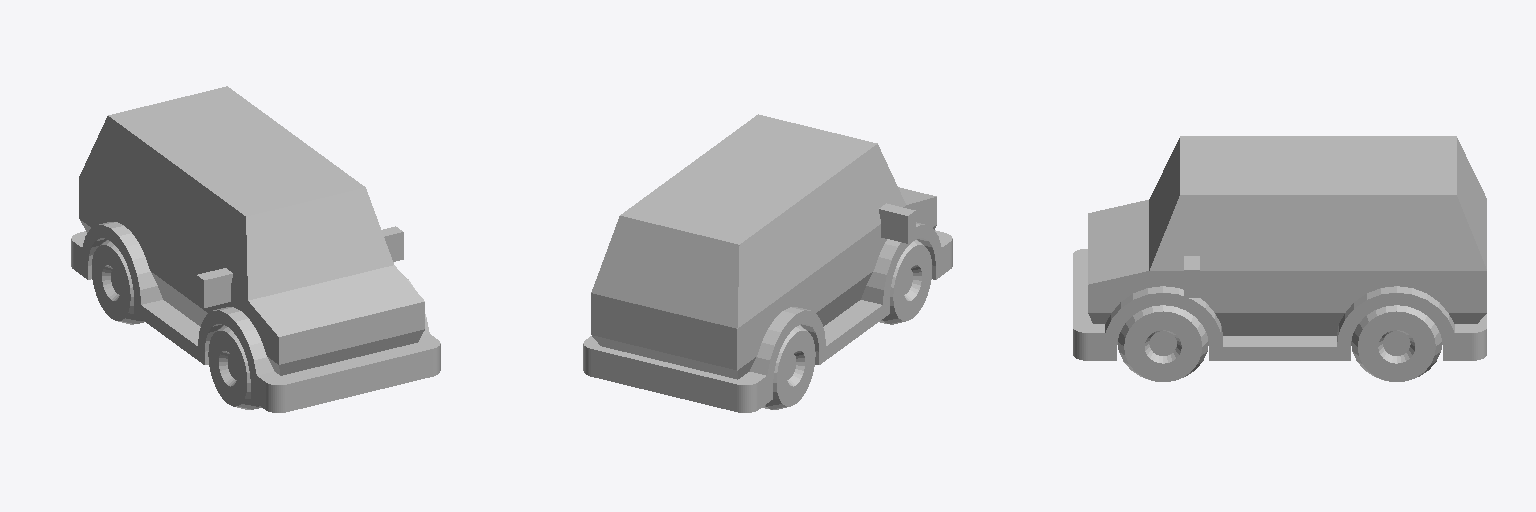
File: van.obj
The picture shows the model from 3 angles: view 1: azimuth 30°, elevation 25°; view 2: azimuth 150°, elevation 25°; view 3: azimuth 270°, elevation 25°; orthographic projection.
Visible parts, largest first — view 1: body, wheel_frontRight, wheel_backRight; view 2: body, wheel_backRight, wheel_frontRight; view 3: body, wheel_backLeft, wheel_frontLeft.
Boxes of the visible parts, <box> form: body: <box>71,86,440,412</box>; wheel_frontRight: <box>208,325,261,409</box>; wheel_backRight: <box>92,240,144,324</box>; body: <box>583,114,952,412</box>; wheel_backRight: <box>762,325,815,409</box>; wheel_frontRight: <box>879,240,931,324</box>; body: <box>1073,136,1486,360</box>; wheel_backLeft: <box>1351,305,1441,381</box>; wheel_frontLeft: <box>1118,305,1208,381</box>.
Size of the model in its own units: 1.12 by 0.975 by 2.02.